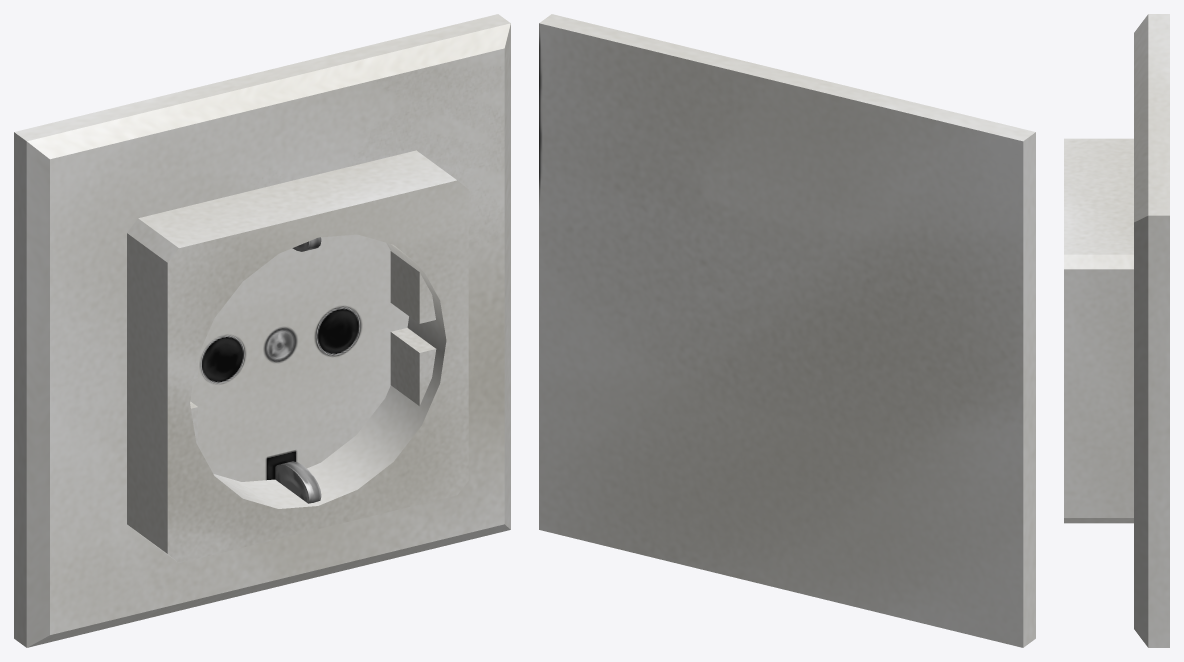
The model's file is Power Socket.fbx.
The picture shows the model from 3 angles, left to right: view 1: azimuth 30°, elevation 25°; view 2: azimuth 150°, elevation 25°; view 3: azimuth 270°, elevation 25°; orthographic projection. The views are drawn at different scales.
Parts seen in each view (by area): view 1: PowerSocket; view 2: PowerSocket; view 3: PowerSocket.
Part boxes in pixels (x1,y1,x2,y2): PowerSocket: [14, 14, 510, 647]; PowerSocket: [539, 14, 1035, 647]; PowerSocket: [1064, 14, 1169, 647].
Bounding box in the file's own units: 13.22 × 13.22 × 2.93.
